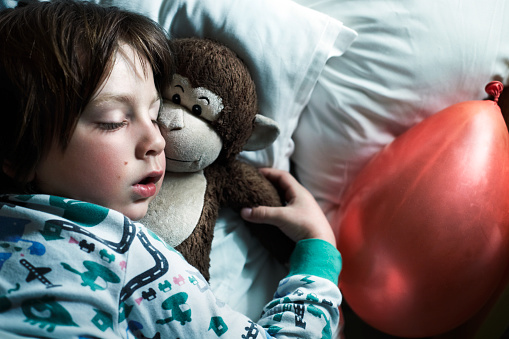deitado: (0, 3, 351, 331)
